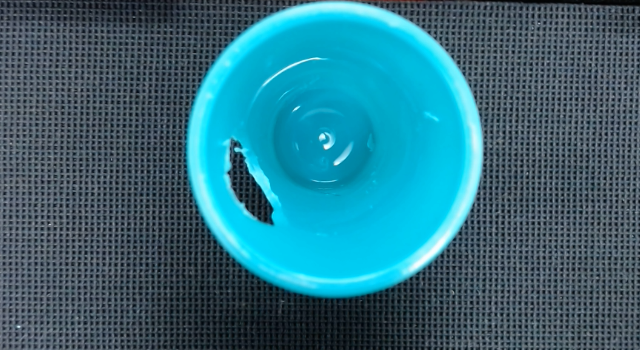hole: (226, 139, 276, 225)
